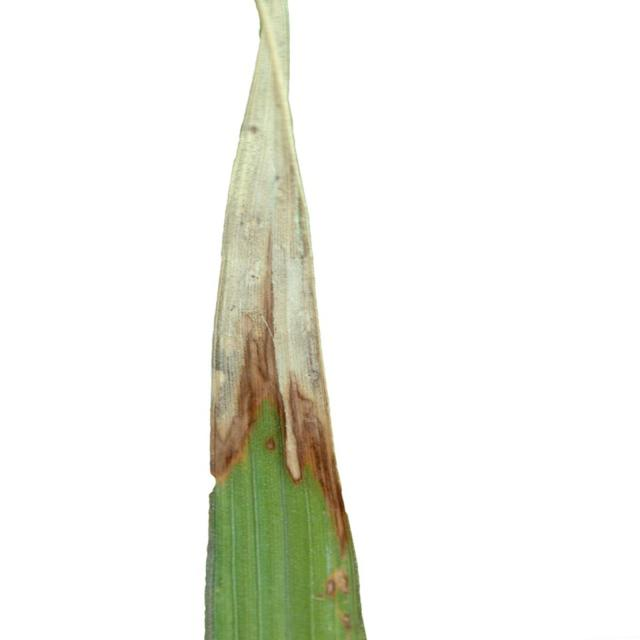Leaf scald: (187, 0, 414, 640)
